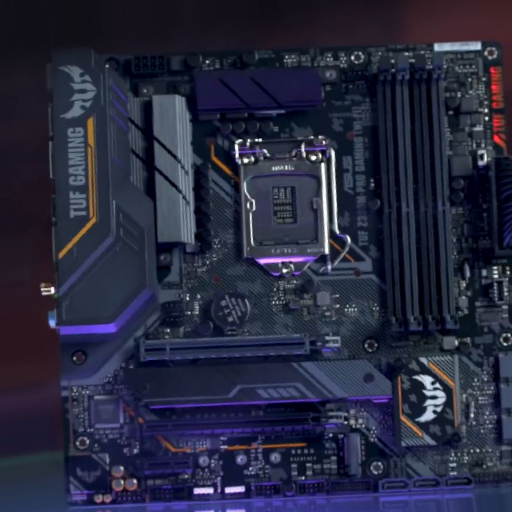CPU: (242, 134, 330, 278)
GPU: (136, 332, 340, 363), (141, 408, 350, 438)
MOTHERBOARD: (62, 43, 511, 510)
RAM: (373, 53, 460, 337)
SSD: (345, 433, 365, 475)
